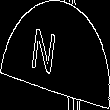N_S: (40, 25, 70, 85)
